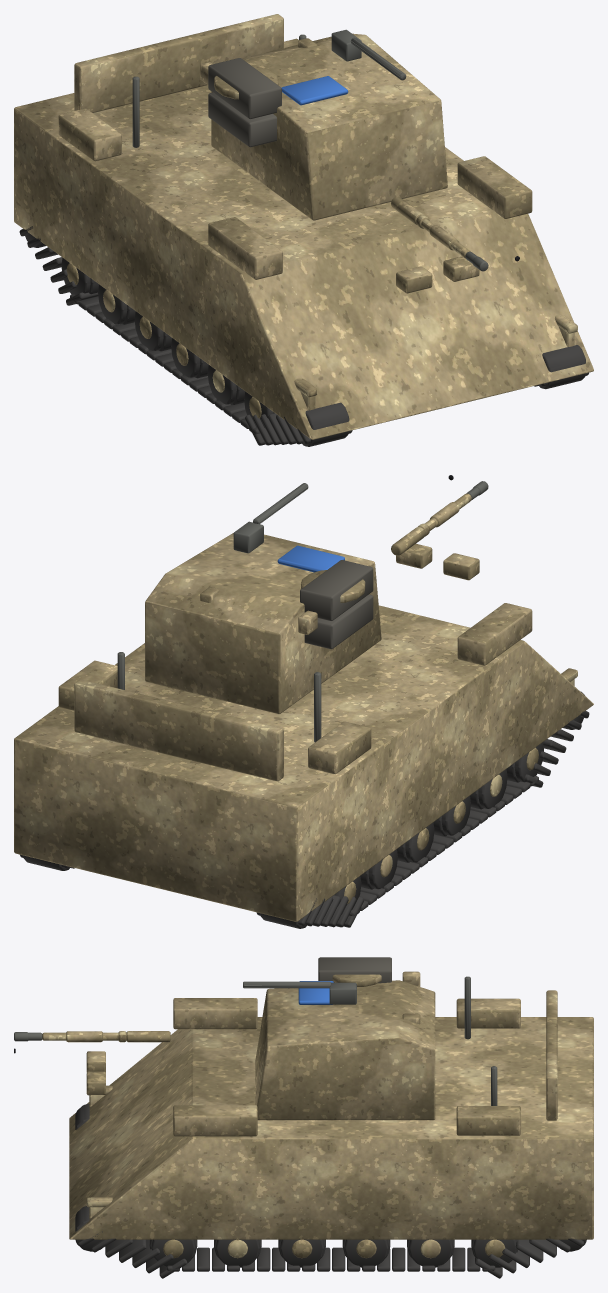
The model's file is afv_e4_us_ifv_LOD0.glb.
The picture shows the model from 3 angles, top to bottom: view 1: azimuth 30°, elevation 25°; view 2: azimuth 150°, elevation 25°; view 3: azimuth 270°, elevation 25°; orthographic projection. The views are drawn at different scales.
Visible parts, largest first — view 1: afv_e4_us_ifv_LOD0_body, afv_e4_us_ifv_LOD0_track, afv_e4_us_ifv_LOD0_deck, afv_e4_us_ifv_LOD0_gun, afv_e4_us_ifv_LOD0_team; view 2: afv_e4_us_ifv_LOD0_body, afv_e4_us_ifv_LOD0_track, afv_e4_us_ifv_LOD0_deck, afv_e4_us_ifv_LOD0_gun, afv_e4_us_ifv_LOD0_team; view 3: afv_e4_us_ifv_LOD0_body, afv_e4_us_ifv_LOD0_track, afv_e4_us_ifv_LOD0_gun, afv_e4_us_ifv_LOD0_deck, afv_e4_us_ifv_LOD0_team.
Part boxes in pixels (x1=…): afv_e4_us_ifv_LOD0_body: x1=14, y1=14, x2=593, y2=439; afv_e4_us_ifv_LOD0_track: x1=19, y1=226, x2=588, y2=446; afv_e4_us_ifv_LOD0_deck: x1=208, y1=58, x2=281, y2=147; afv_e4_us_ifv_LOD0_gun: x1=132, y1=29, x2=488, y2=271; afv_e4_us_ifv_LOD0_team: x1=281, y1=76, x2=348, y2=105; afv_e4_us_ifv_LOD0_body: x1=14, y1=493, x2=593, y2=921; afv_e4_us_ifv_LOD0_track: x1=20, y1=691, x2=589, y2=928; afv_e4_us_ifv_LOD0_deck: x1=300, y1=560, x2=373, y2=649; afv_e4_us_ifv_LOD0_gun: x1=117, y1=481, x2=488, y2=742; afv_e4_us_ifv_LOD0_team: x1=277, y1=545, x2=344, y2=572; afv_e4_us_ifv_LOD0_body: x1=42, y1=971, x2=593, y2=1258; afv_e4_us_ifv_LOD0_track: x1=75, y1=1103, x2=586, y2=1278; afv_e4_us_ifv_LOD0_gun: x1=14, y1=976, x2=497, y2=1105; afv_e4_us_ifv_LOD0_deck: x1=318, y1=957, x2=391, y2=983; afv_e4_us_ifv_LOD0_team: x1=298, y1=981, x2=333, y2=1004.
Bounding box in the file's own units: 3.6 × 3.54 × 7.23.
6 materials, 1 textured.
